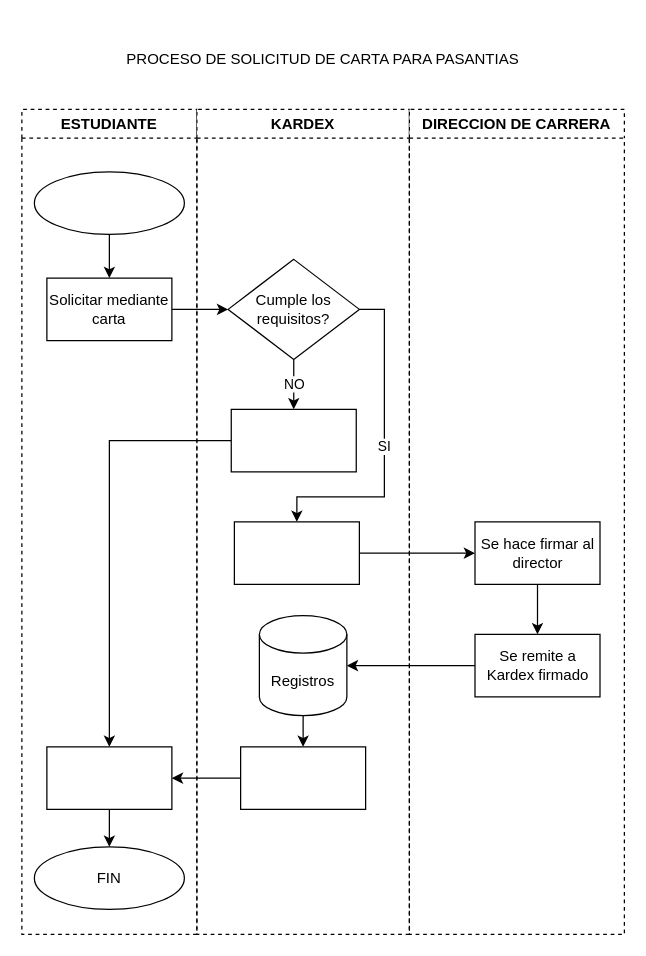
The diagram is 646 pixels wide and 956 high, and some of its shapes have lost their labels. Each missing label, with the centre of its shape:
INICIO: the point at 108,202
Se acepta la solicitud: the point at 302,777
Se envía a dirección de carrera: the point at 296,552
Se notifica al estudiante: the point at 109,777
Se rechaza la solicitud: the point at 293,440
